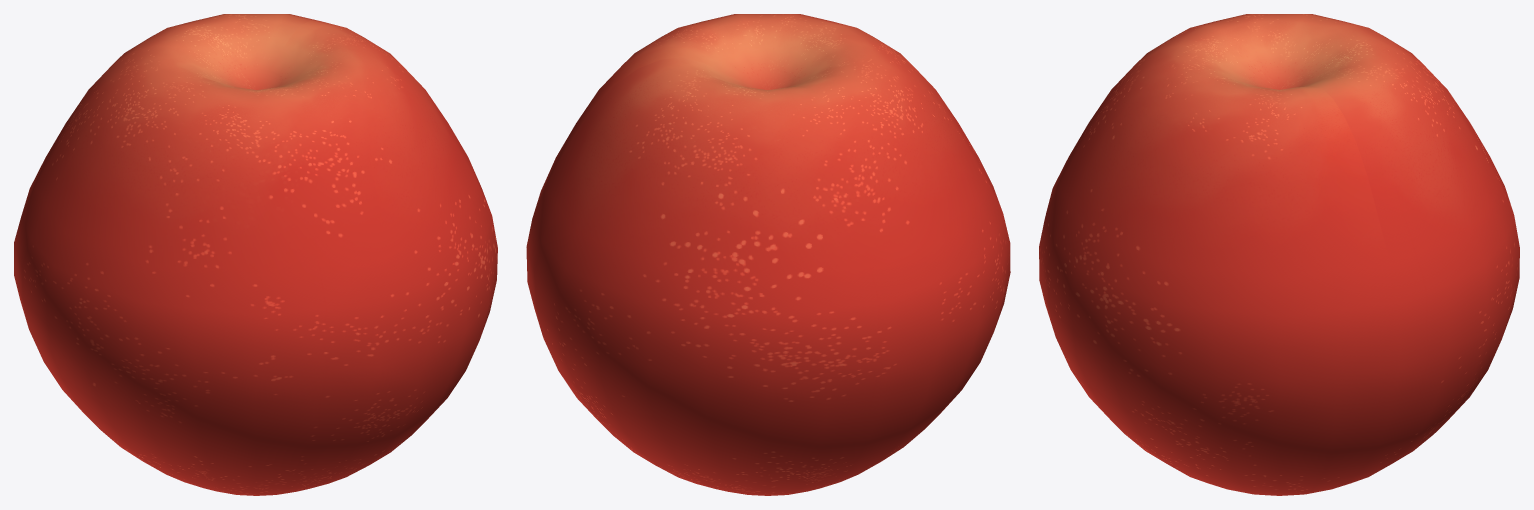
The model's file is Fruit1.fbx.
3 views of the same model, side by side, from view 1: azimuth 30°, elevation 25°; view 2: azimuth 150°, elevation 25°; view 3: azimuth 270°, elevation 25° (orthographic).
Parts seen in each view (by area): view 1: Fruit1; view 2: Fruit1; view 3: Fruit1.
Part boxes in pixels (x1=…): Fruit1: x1=14, y1=14, x2=497, y2=495; Fruit1: x1=526, y1=14, x2=1010, y2=495; Fruit1: x1=1039, y1=14, x2=1519, y2=495.
Bounding box in the file's own units: 151 × 146 × 151.
1 material, 1 textured.
